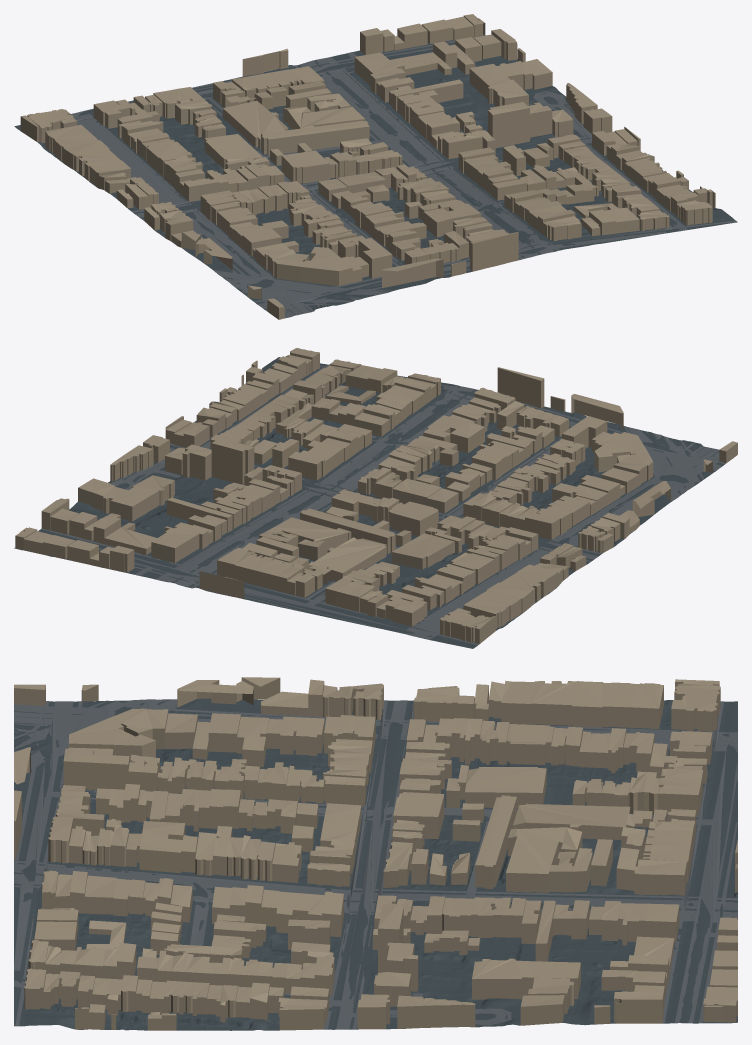
The model's file is epsg26910-1433-10885.lod0.glb.
The picture shows the model from 3 angles, top to bottom: view 1: azimuth 30°, elevation 25°; view 2: azimuth 150°, elevation 25°; view 3: azimuth 270°, elevation 25°; orthographic projection. The views are drawn at different scales.
Parts seen in each view (by area): view 1: epsg26910-1433-10885-lod0; view 2: epsg26910-1433-10885-lod0; view 3: epsg26910-1433-10885-lod0.
Part boxes in pixels (x1,y1,x2,y2): epsg26910-1433-10885-lod0: (14, 14, 737, 319); epsg26910-1433-10885-lod0: (14, 348, 737, 648); epsg26910-1433-10885-lod0: (14, 677, 737, 1030).
Size of the model in its own units: 384 by 37.26 by 384.
